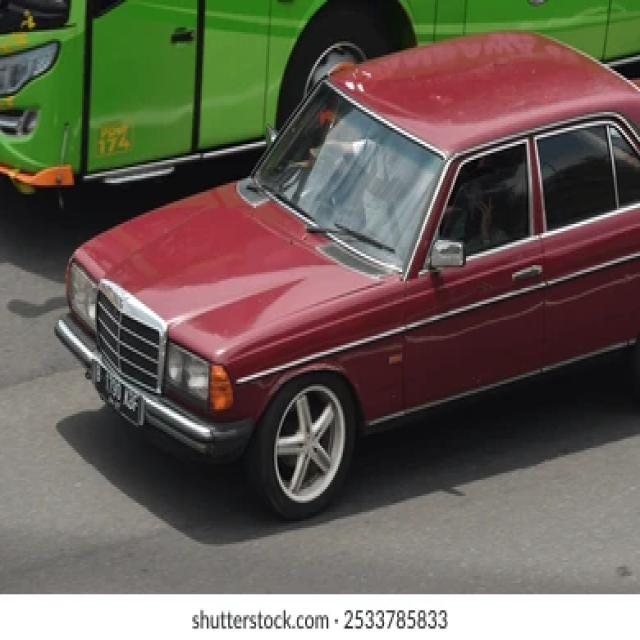maroon: (61, 34, 640, 506)
